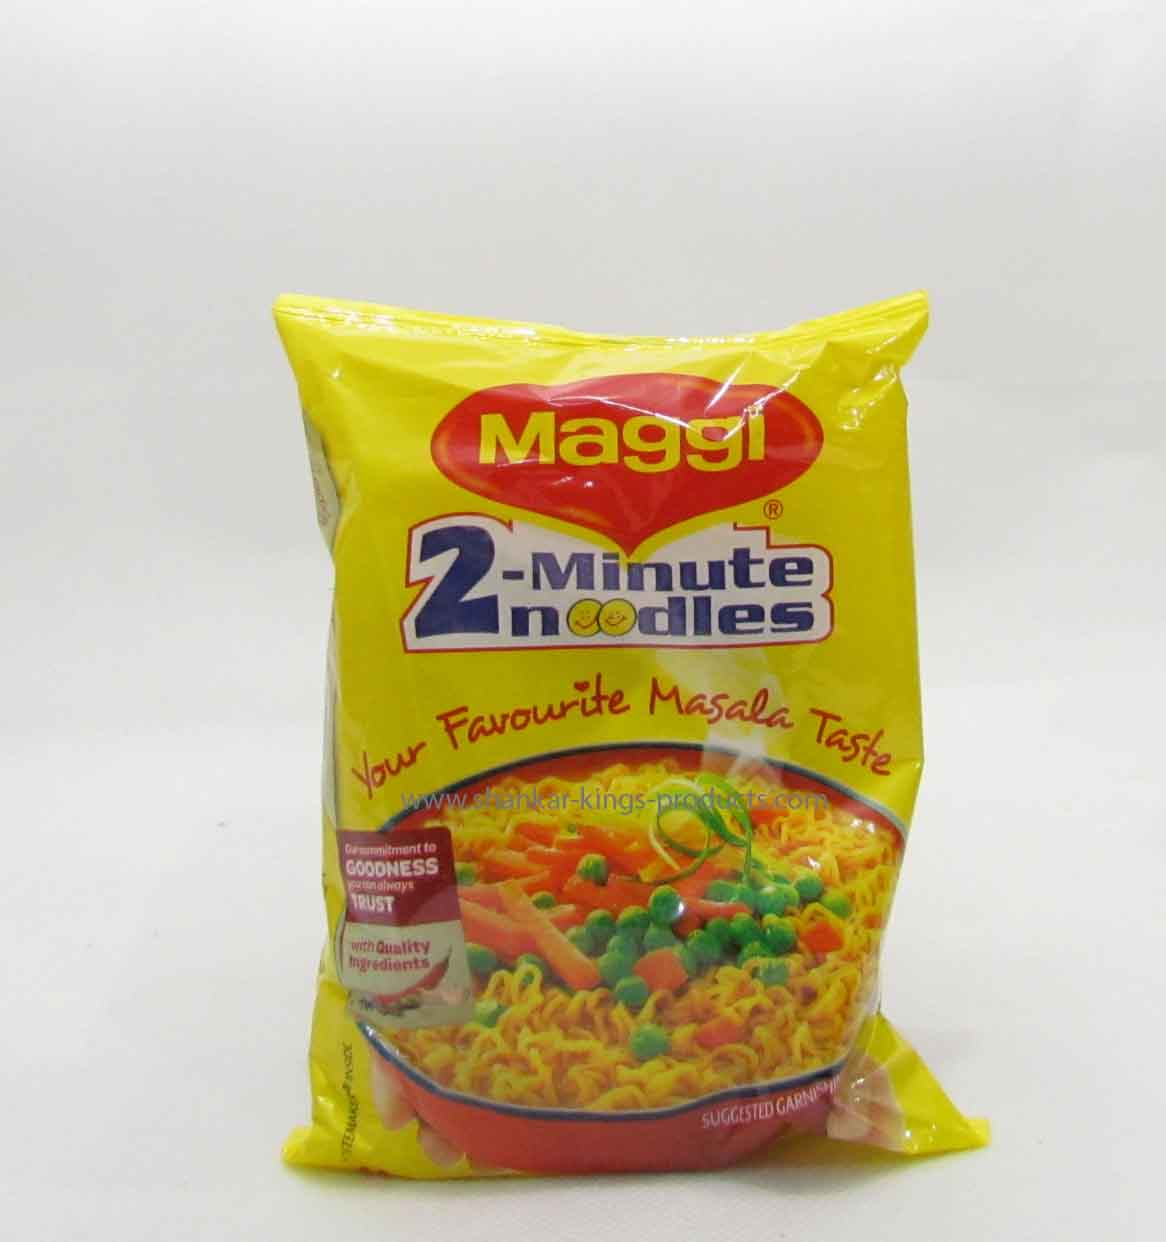maggie: (268, 292, 984, 1178)
